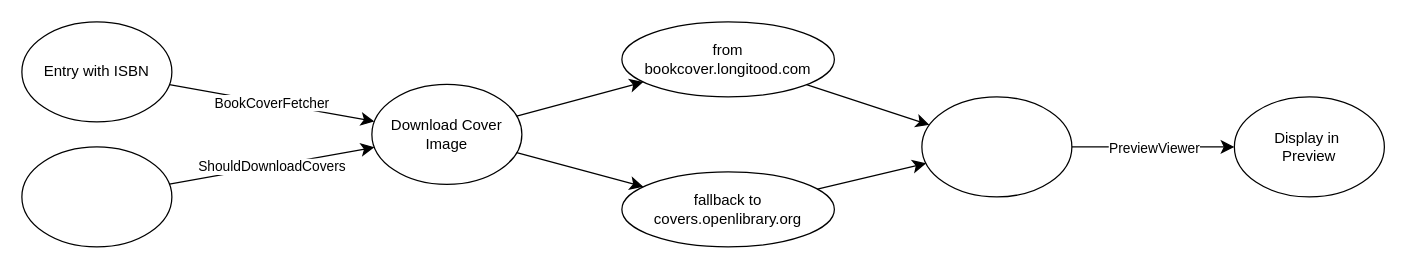
Some shapes in this 1406 by 269 pixel diagram are drawn without their labels. Here are the shapes that lost their labels. From the top down, the centre of each, then its label:
At pixel 996 146: "Cover File".
At pixel 96 196: "User Preference".
